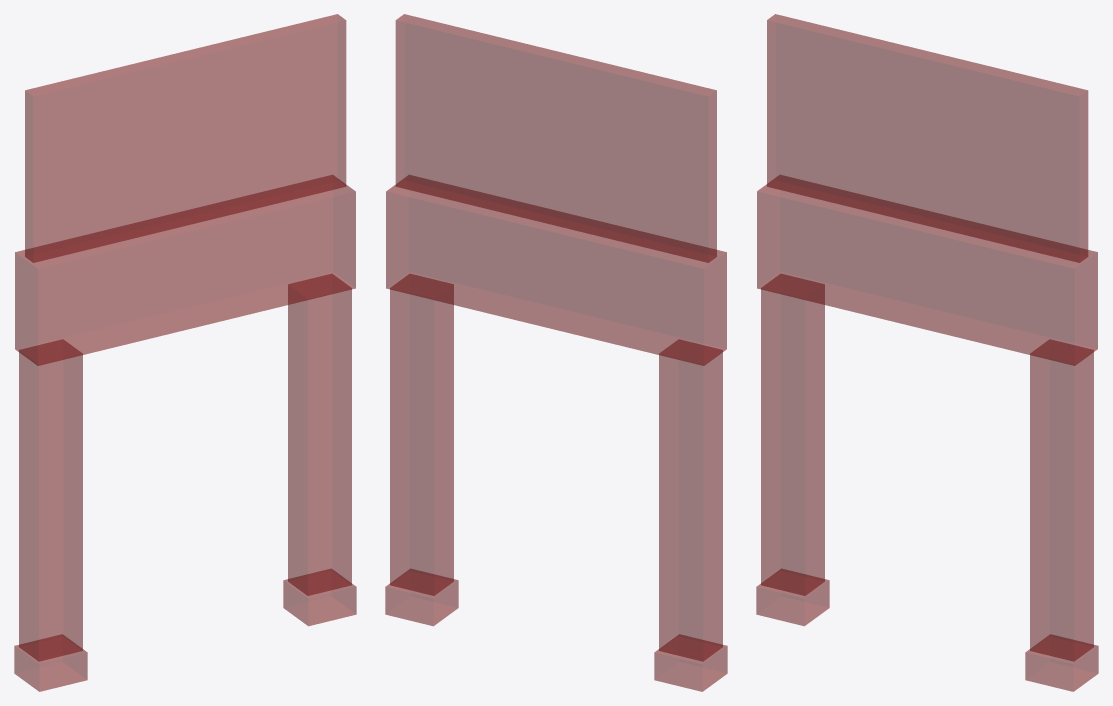
File: SM_Bld_Door_Monument_01_Collision.fbx
3 renders of one model, left to right at view 1: azimuth 30°, elevation 25°; view 2: azimuth 150°, elevation 25°; view 3: azimuth 330°, elevation 25°, orthographic.
Visible parts, largest first — view 1: SM_Bld_Door_Monument_01_Collision; view 2: SM_Bld_Door_Monument_01_Collision; view 3: SM_Bld_Door_Monument_01_Collision.
Part boxes in pixels (x1,y1,x2,y2): SM_Bld_Door_Monument_01_Collision: [14, 14, 356, 691]; SM_Bld_Door_Monument_01_Collision: [385, 14, 727, 691]; SM_Bld_Door_Monument_01_Collision: [756, 14, 1098, 691].
Size of the model in its own units: 508 by 899 by 69.32.
